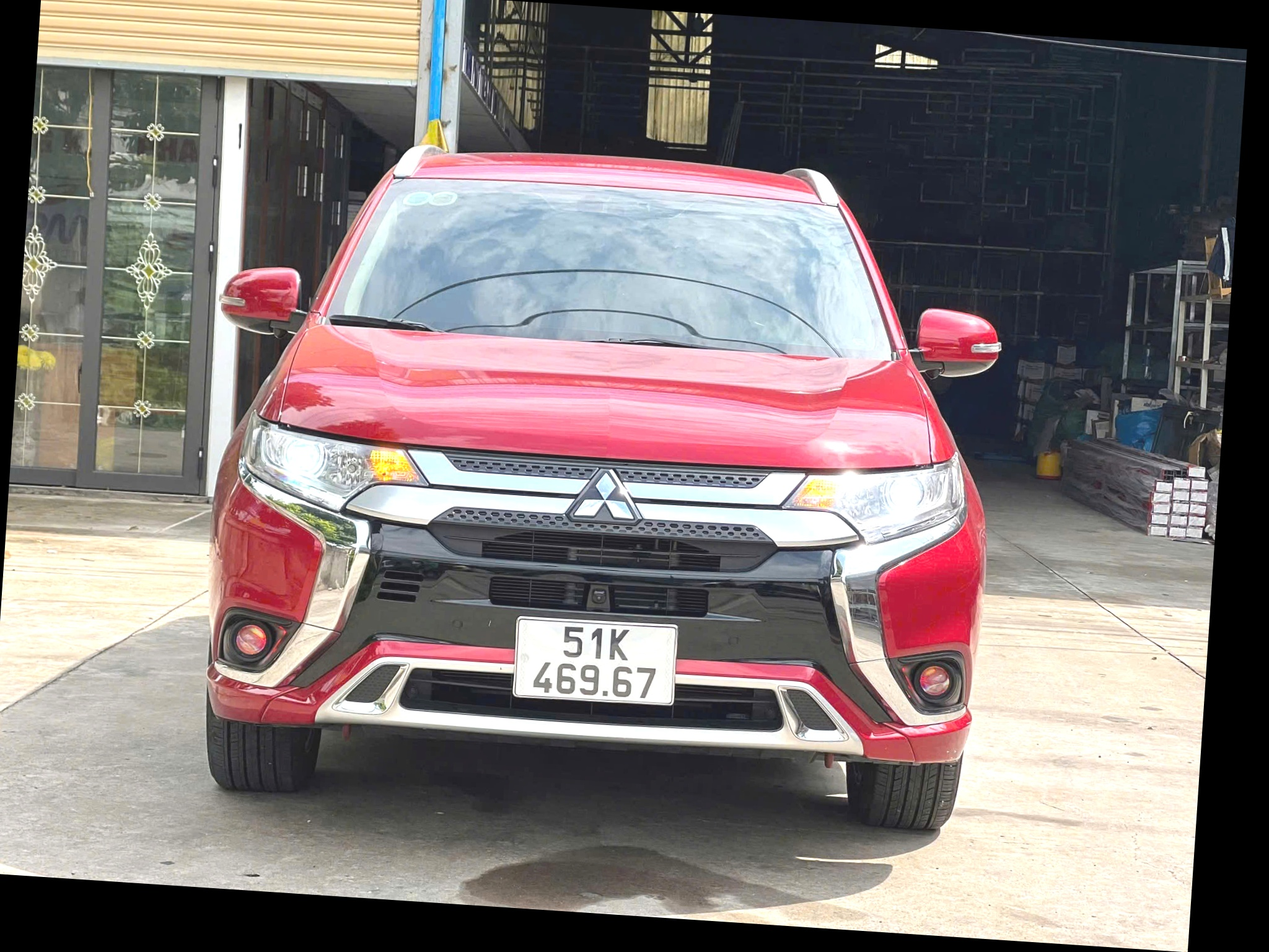Bien-so: (539, 619, 721, 709)
